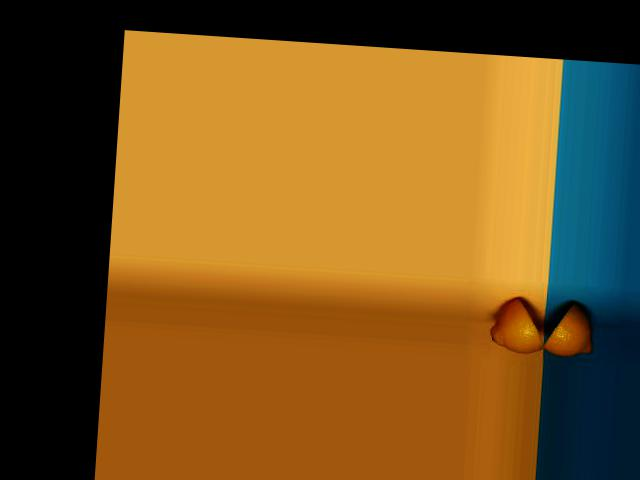lemon: (486, 282, 605, 360)
